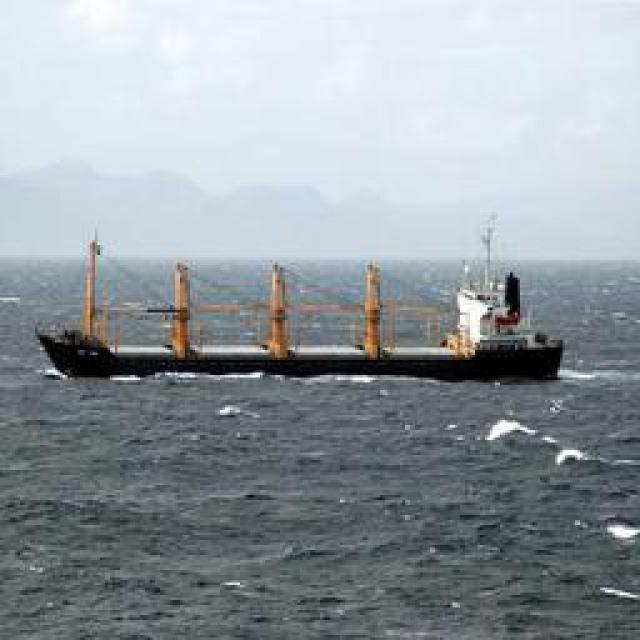Ship: (38, 257, 566, 387)
